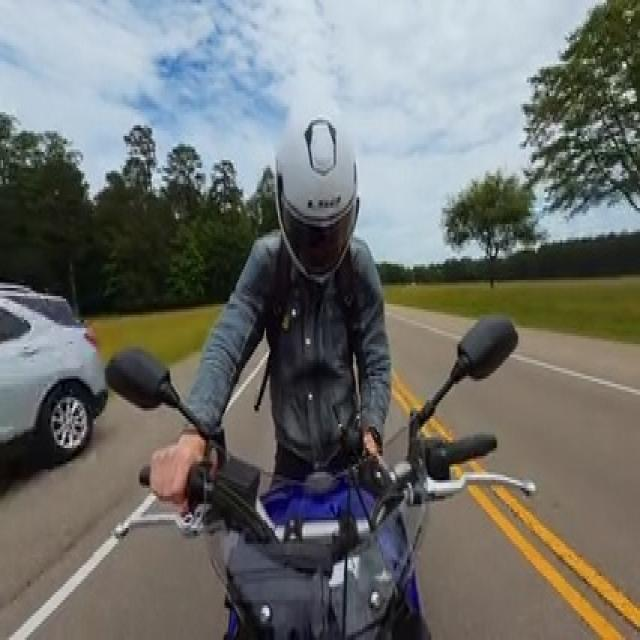Helmet_Wearer: (261, 105, 368, 278)
Person: (170, 111, 390, 497)
